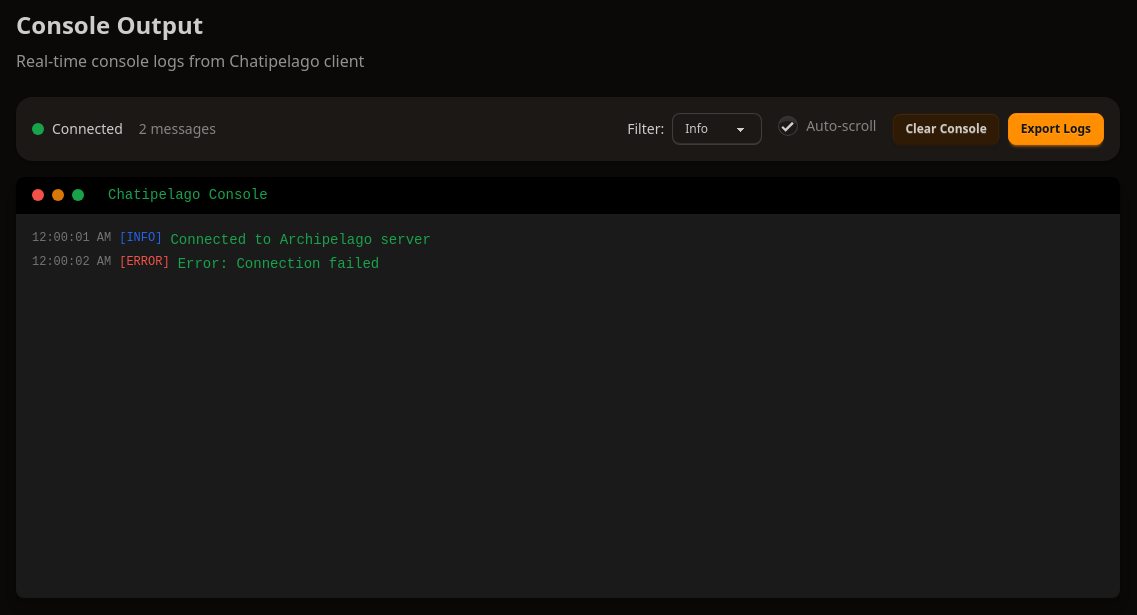
ConsoleOutput › should display all messages at debug level
Step 1. Select "Debug" in the dropdown named "Filter messages by level" → (717, 129), box [672,113,762,145]
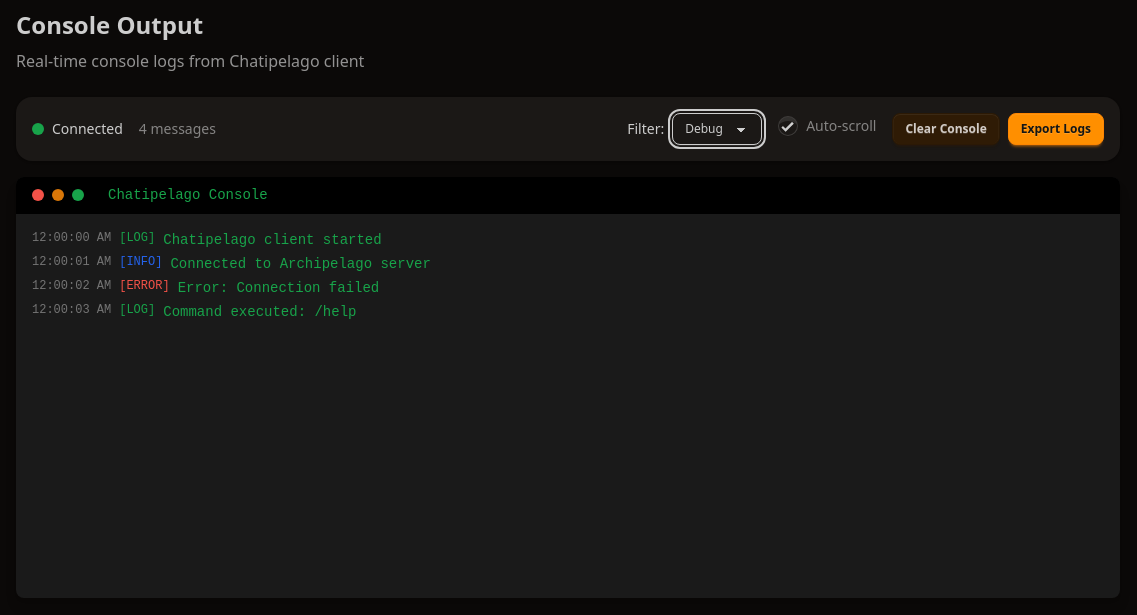
Check: the text "Chatipelago client started" is shown, box [163,232,382,248]
Check: the text "Connected to Archipelago server" is shown, box [170,256,431,272]
Check: the text "Command executed: /help" is shown, box [163,304,356,320]
